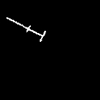double_crochet: (7, 18, 45, 41)
